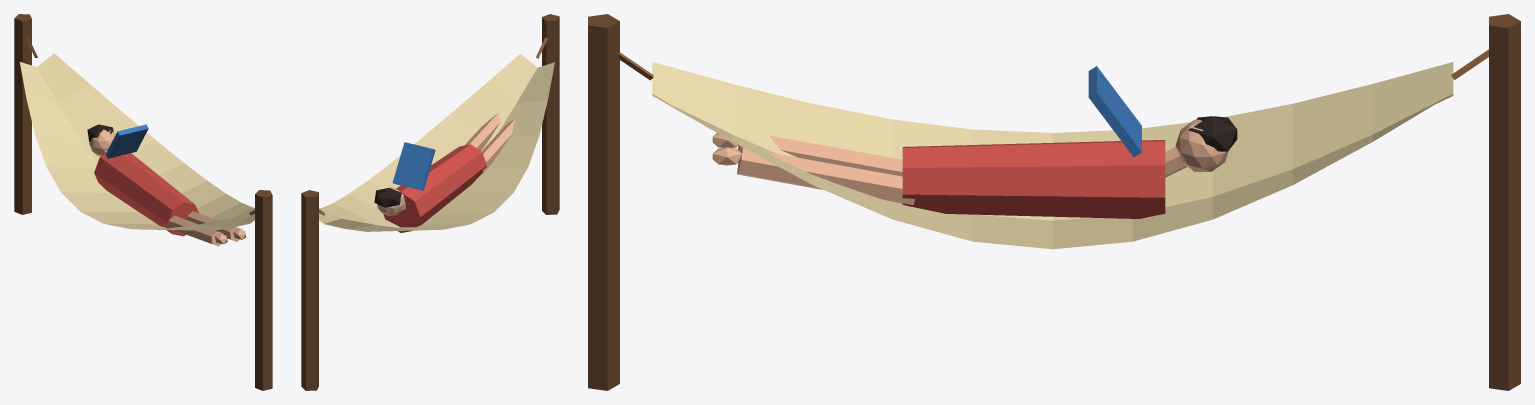
Rendered from hangmatta.glb.
3 renders of one model, left to right at view 1: azimuth 30°, elevation 25°; view 2: azimuth 150°, elevation 25°; view 3: azimuth 270°, elevation 25°, orthographic. The views are drawn at different scales.
Visible parts, largest first — view 1: hangmatta; view 2: hangmatta; view 3: hangmatta.
Boxes of the visible parts, x1=… form: hangmatta: x1=14, y1=14, x2=272, y2=390; hangmatta: x1=301, y1=14, x2=559, y2=390; hangmatta: x1=588, y1=14, x2=1520, y2=390.
Bounding box in the file's own units: 1.1 × 1.6 × 3.73.
